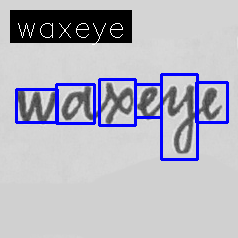a: (61, 83, 93, 123)
e: (199, 85, 223, 121), (137, 84, 159, 121)
w: (14, 88, 59, 126)
x: (100, 80, 135, 126)
y: (165, 82, 196, 157)
